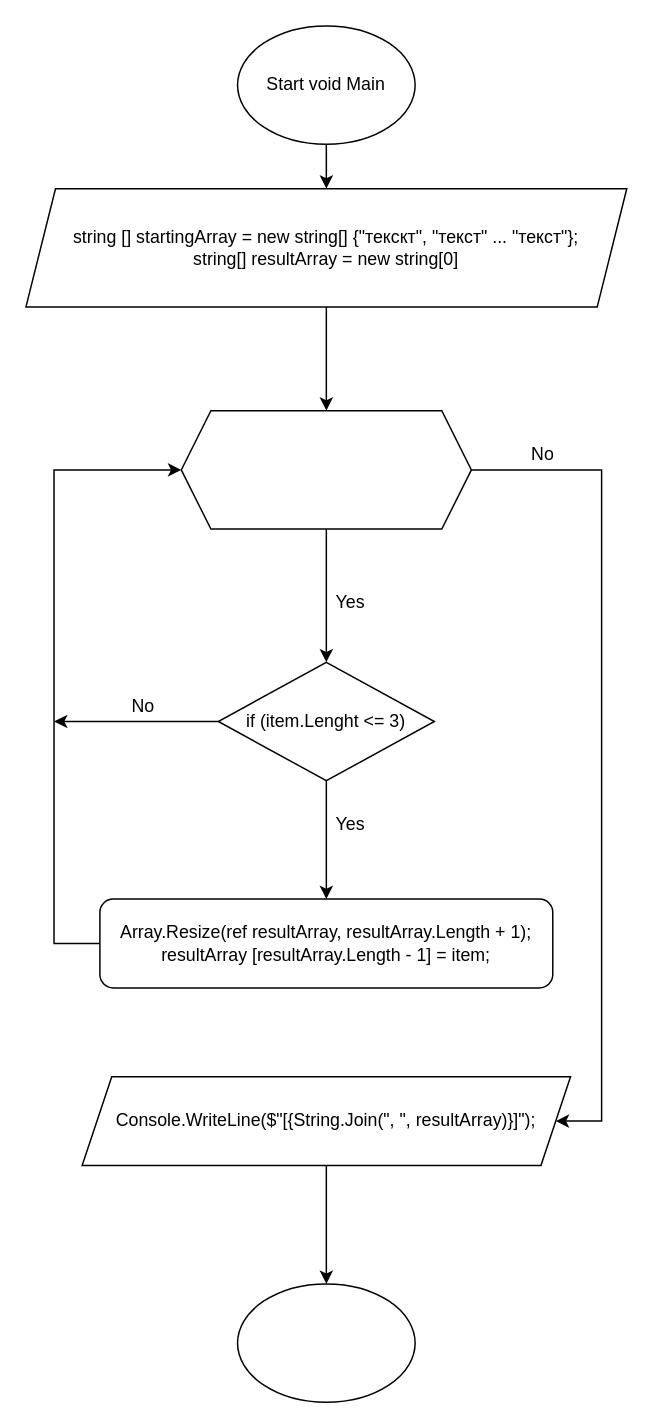
This 653x1428 diagram has some shape labels left out. The shapes that lost their labels are listed below. From the top down, each one's centre as x and y in pixels, then its label:
(x=325, y=469): foreach (var item in startingArray)
(x=325, y=1342): End Main
